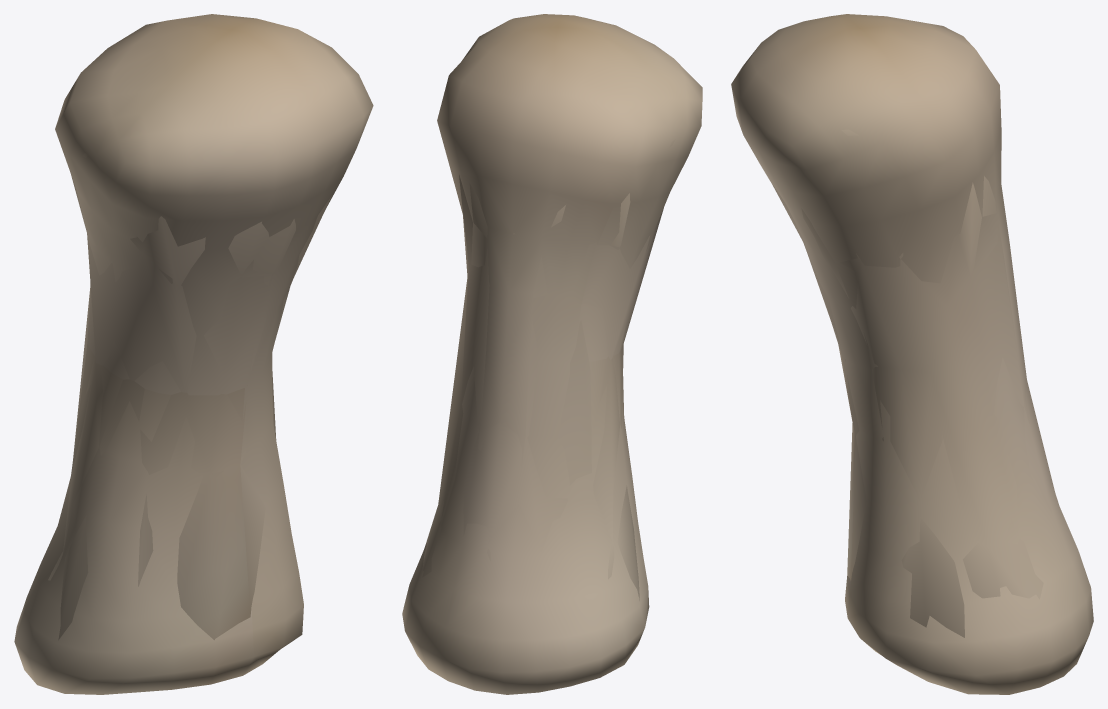
Rendered from vertebrae caudales 16.fbx.
3 views of the same model, side by side, from view 1: azimuth 30°, elevation 25°; view 2: azimuth 150°, elevation 25°; view 3: azimuth 270°, elevation 25° (orthographic). The views are drawn at different scales.
Parts seen in each view (by area): view 1: vertebrae caudales 16, vertebrae caudales 16 low; view 2: vertebrae caudales 16, vertebrae caudales 16 low; view 3: vertebrae caudales 16, vertebrae caudales 16 low.
Boxes of the visible parts, bbox=[...] form: vertebrae caudales 16: bbox=[14, 14, 373, 694]; vertebrae caudales 16 low: bbox=[48, 153, 331, 640]; vertebrae caudales 16: bbox=[402, 14, 702, 694]; vertebrae caudales 16 low: bbox=[422, 139, 675, 600]; vertebrae caudales 16: bbox=[731, 14, 1093, 694]; vertebrae caudales 16 low: bbox=[770, 129, 1054, 637].
Size of the model in its own units: 0.9834 by 2.5 by 1.3.
1 material, 1 textured.
